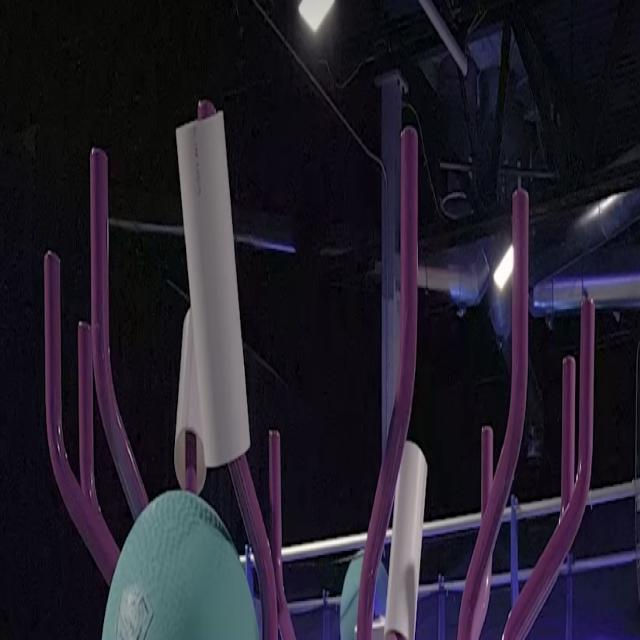Algae: (102, 490, 260, 640), (340, 549, 388, 640)
Coral: (176, 111, 250, 466), (384, 441, 427, 640), (174, 308, 206, 490)
Reef: (91, 150, 109, 410), (400, 127, 418, 382), (512, 192, 529, 422), (44, 253, 60, 474), (77, 323, 94, 509), (579, 298, 594, 506), (562, 356, 576, 516), (269, 432, 284, 564), (481, 428, 493, 513)
